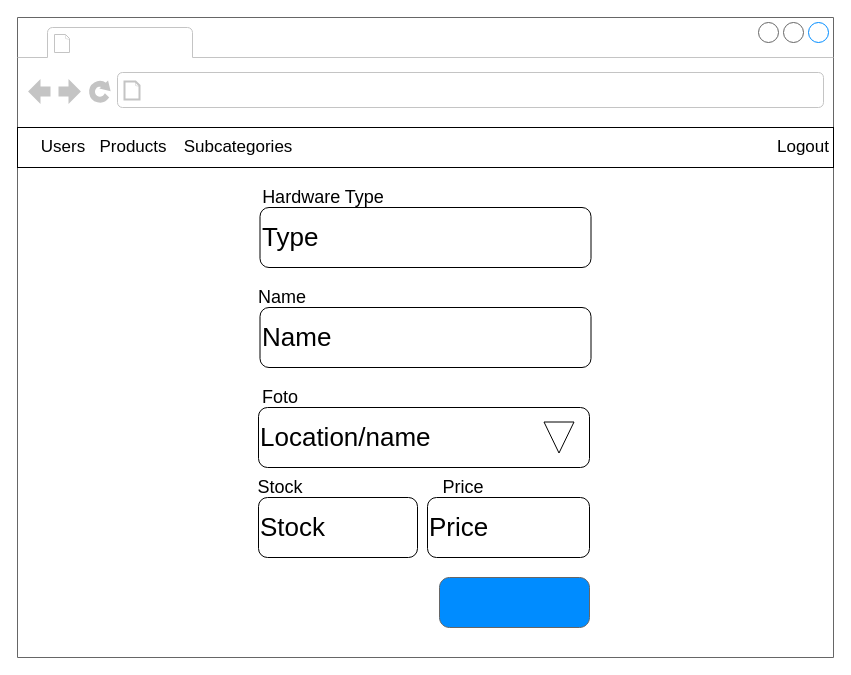
The diagram is 851 pixels wide and 675 high, and some of its shapes have lost their labels. The shapes that lost their labels are listed below. From the top down, each one's centre as x and y in pixels, then its label:
At (x=132, y=42): "Page 6".
At (x=272, y=90): "https://www.draw.io".
At (x=514, y=602): "Edit".
